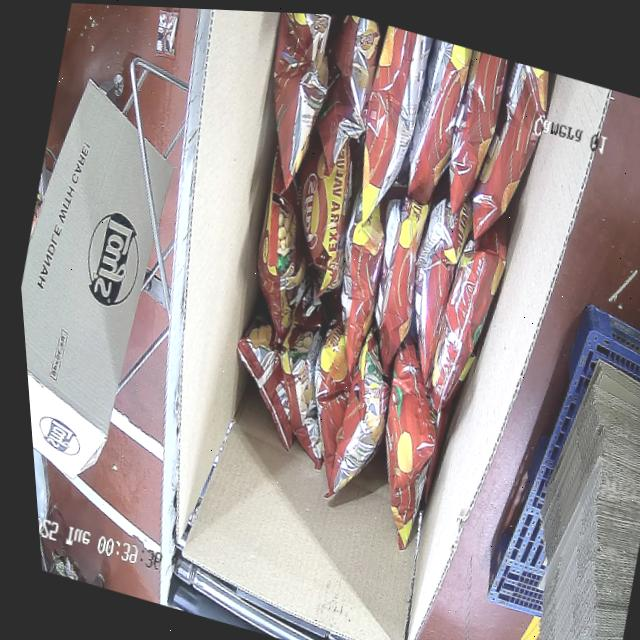MASALA: (159, 7, 589, 571)
